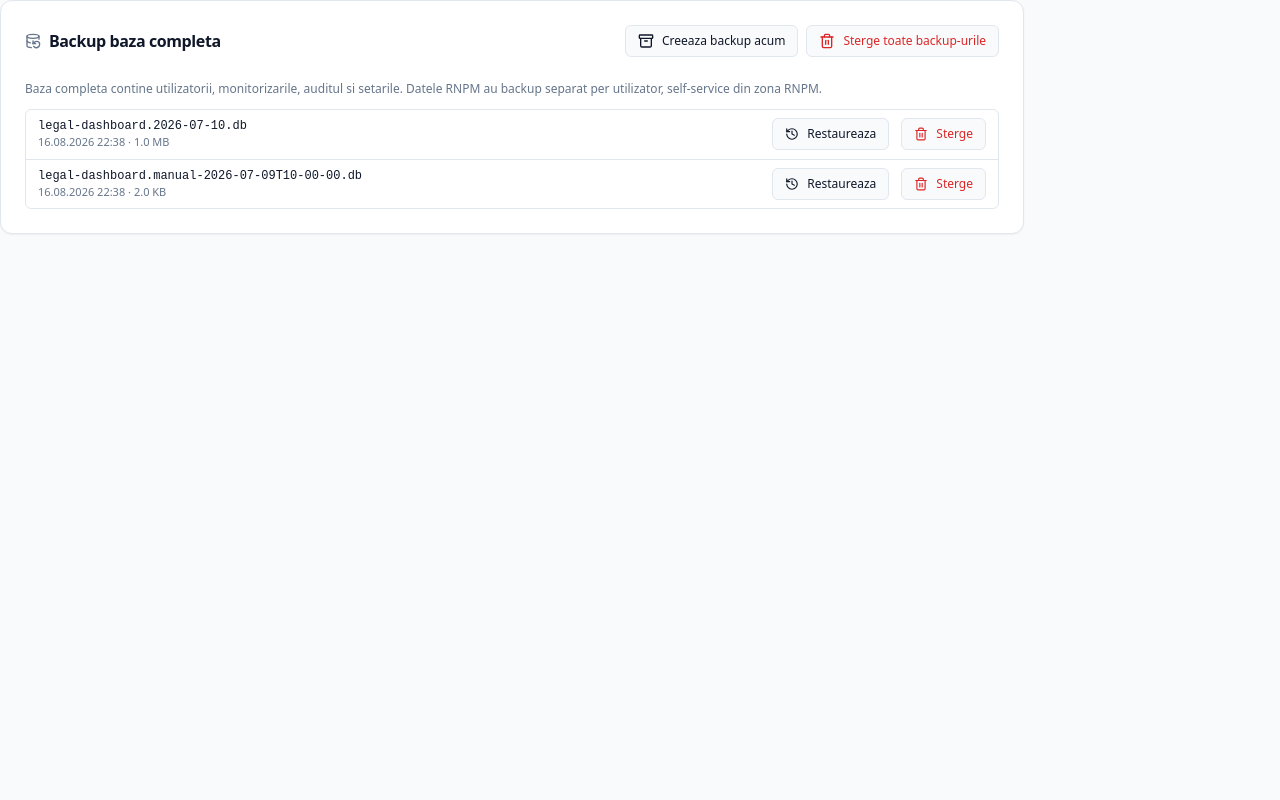
Test: AdminBackups (embedded) › reload-ul NU se programeaza cand restore-ul esueaza
Click the button "Restaureaza" in the row of "legal-dashboard.2026-07-10.db" at (831, 134), box [772,118,889,150]
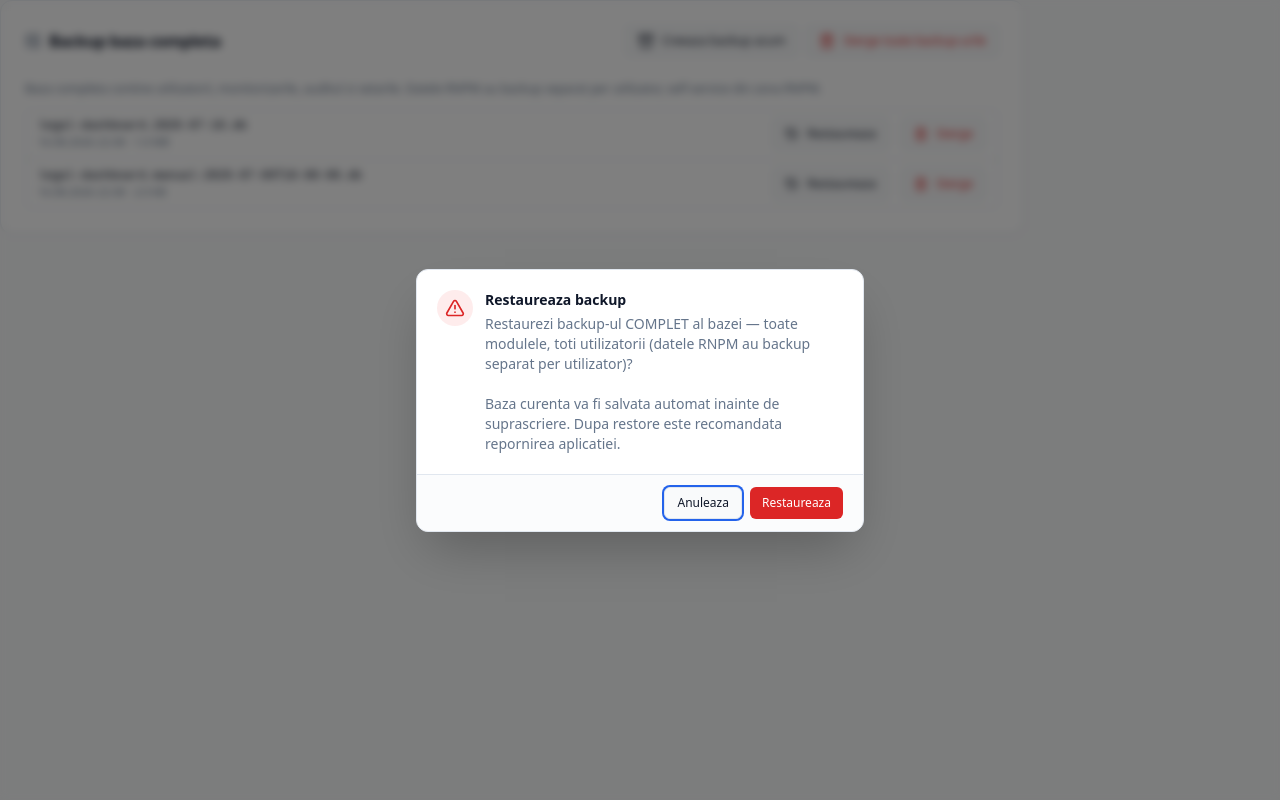
Click the button "Restaureaza" at (796, 502), box [750,486,843,518]
Wait 3000 ms
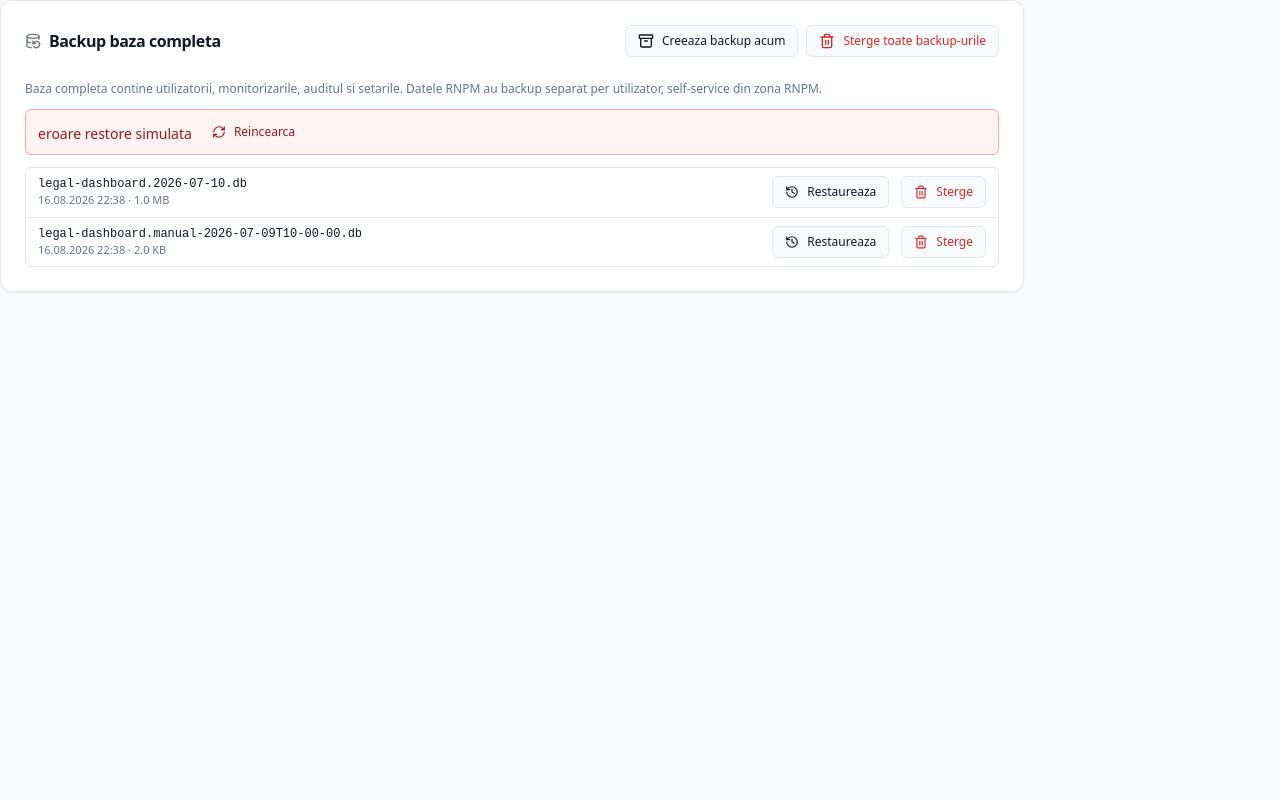
Check: the text "eroare restore simulata" is shown, box [38,124,192,143]
